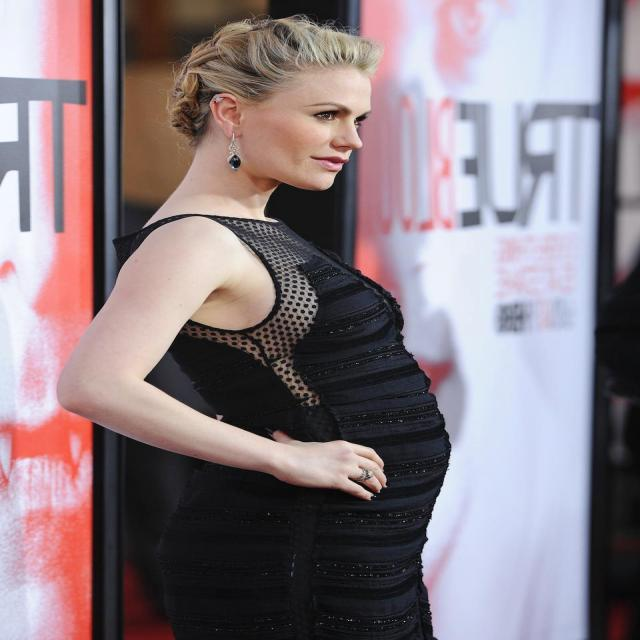no-earmuff: (196, 78, 274, 146)
